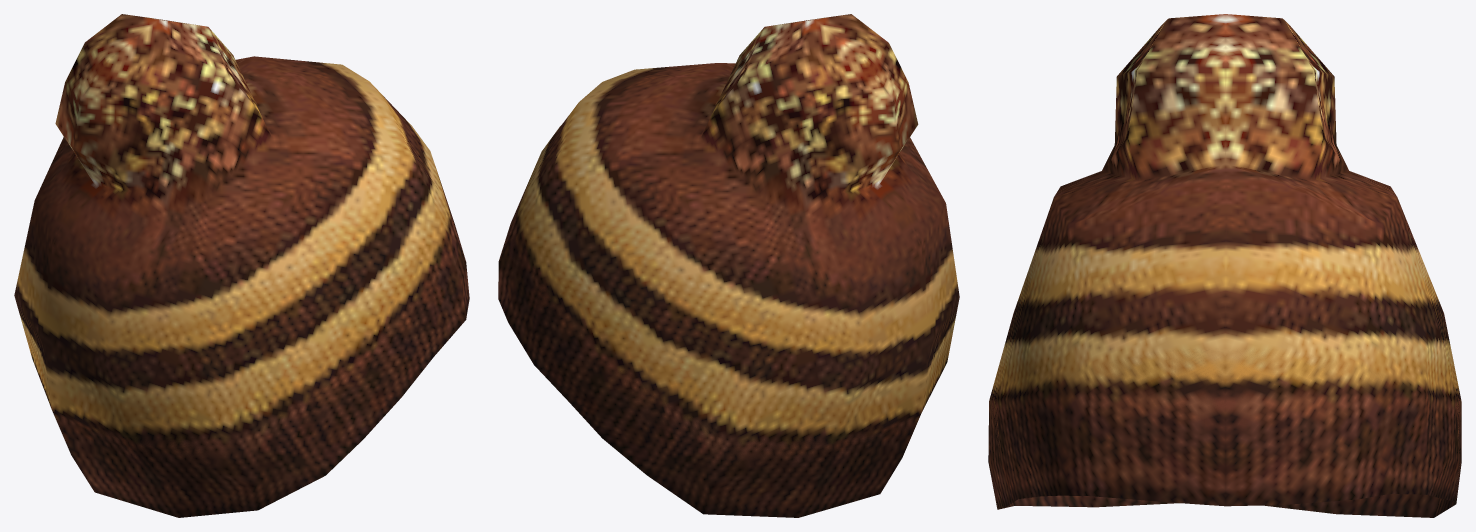
File: hat_0450041.FBX
3 views of the same model, side by side, from view 1: azimuth 30°, elevation 25°; view 2: azimuth 150°, elevation 25°; view 3: azimuth 270°, elevation 25° (orthographic). The views are drawn at different scales.
Visible parts, largest first — view 1: hat_0450041; view 2: hat_0450041; view 3: hat_0450041.
Part boxes in pixels (x1=…): hat_0450041: x1=14, y1=14, x2=469, y2=517; hat_0450041: x1=498, y1=14, x2=959, y2=517; hat_0450041: x1=988, y1=14, x2=1461, y2=517.
Size of the model in its own units: 24.91 by 27.4 by 22.46.
